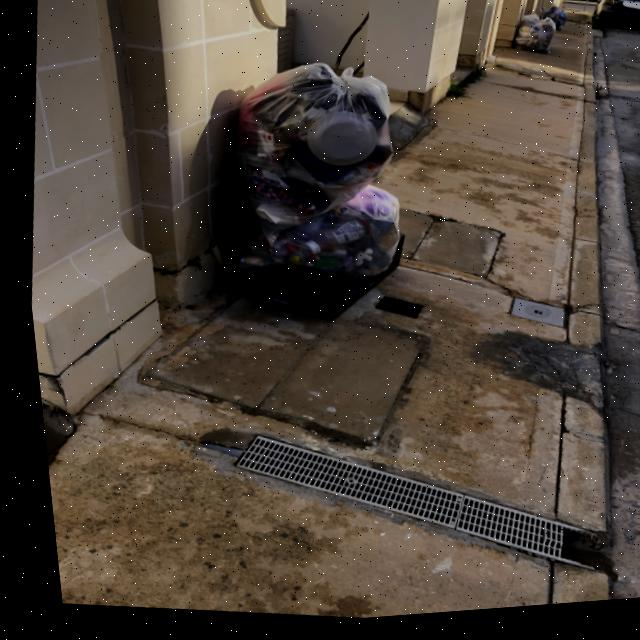Other: (207, 216, 407, 339)
Recycled Waste -Grey or Green Bag-: (212, 56, 408, 267), (222, 174, 401, 299), (509, 19, 560, 67), (540, 13, 569, 42)
